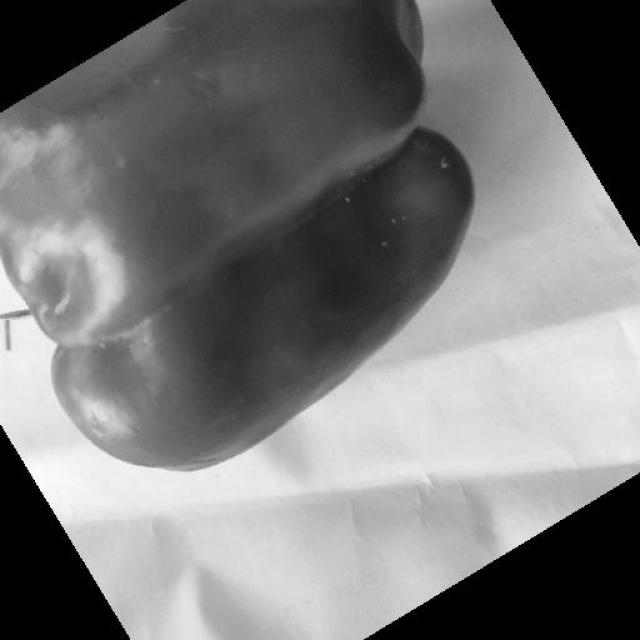Fresh_Capsicum: (1, 0, 480, 420)
